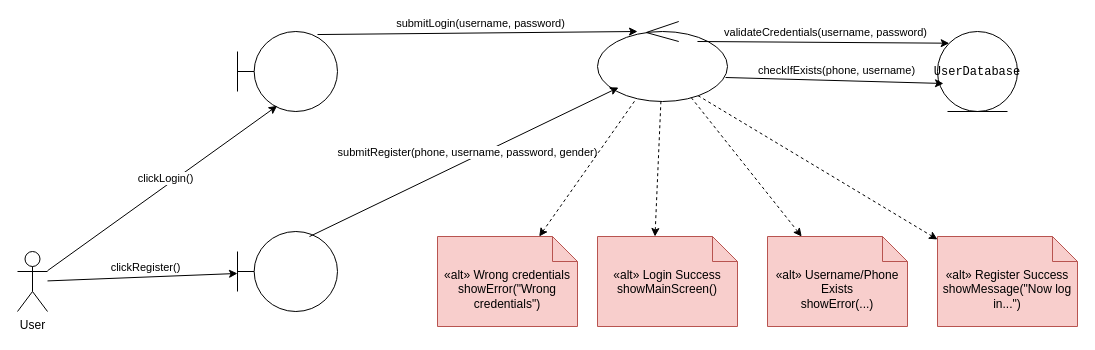
The diagram is 1095 pixels wide and 350 high, and some of its shapes have lost their labels. Each missing label, with the centre of its shape:
"LoginController" belongs at pixel 662 61.
"LoginPopup" belongs at pixel 287 71.
"RegisterPopup" belongs at pixel 287 271.
